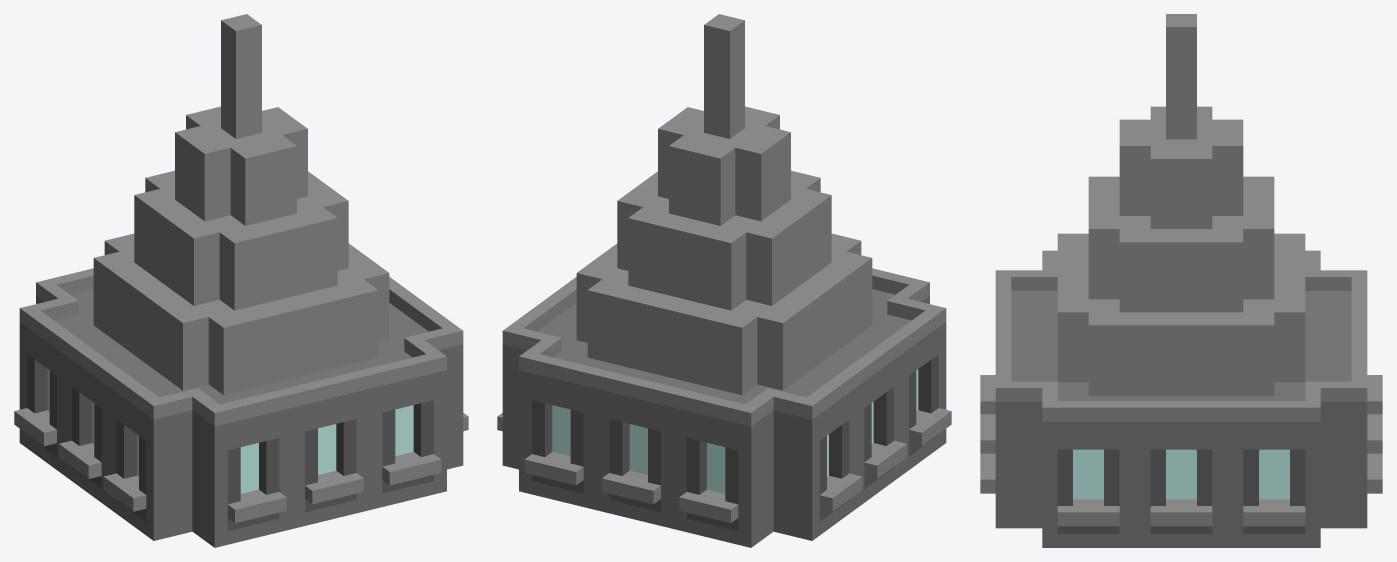
File: Rooftop.obj
3 views of the same model, side by side, from view 1: azimuth 30°, elevation 25°; view 2: azimuth 150°, elevation 25°; view 3: azimuth 270°, elevation 25° (orthographic). The views are drawn at different scales.
Parts seen in each view (by area): view 1: Rooftop; view 2: Rooftop; view 3: Rooftop.
Part boxes in pixels (x1,y1,x2,y2): Rooftop: [14, 14, 468, 547]; Rooftop: [497, 14, 951, 547]; Rooftop: [980, 14, 1382, 547].
Size of the model in its own units: 26 by 32 by 26.
1 material, 1 textured.
